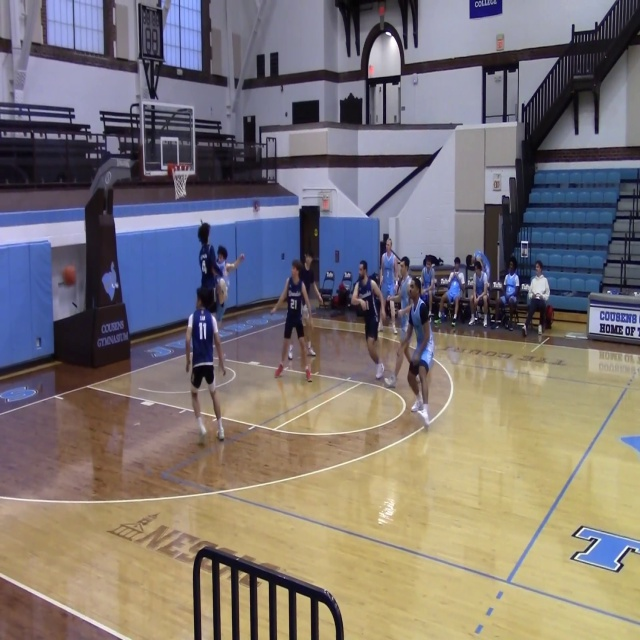Basketball: (62, 265, 76, 285)
